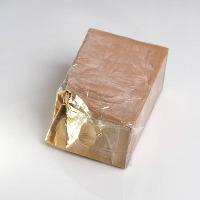undamaged: (37, 20, 172, 175)
